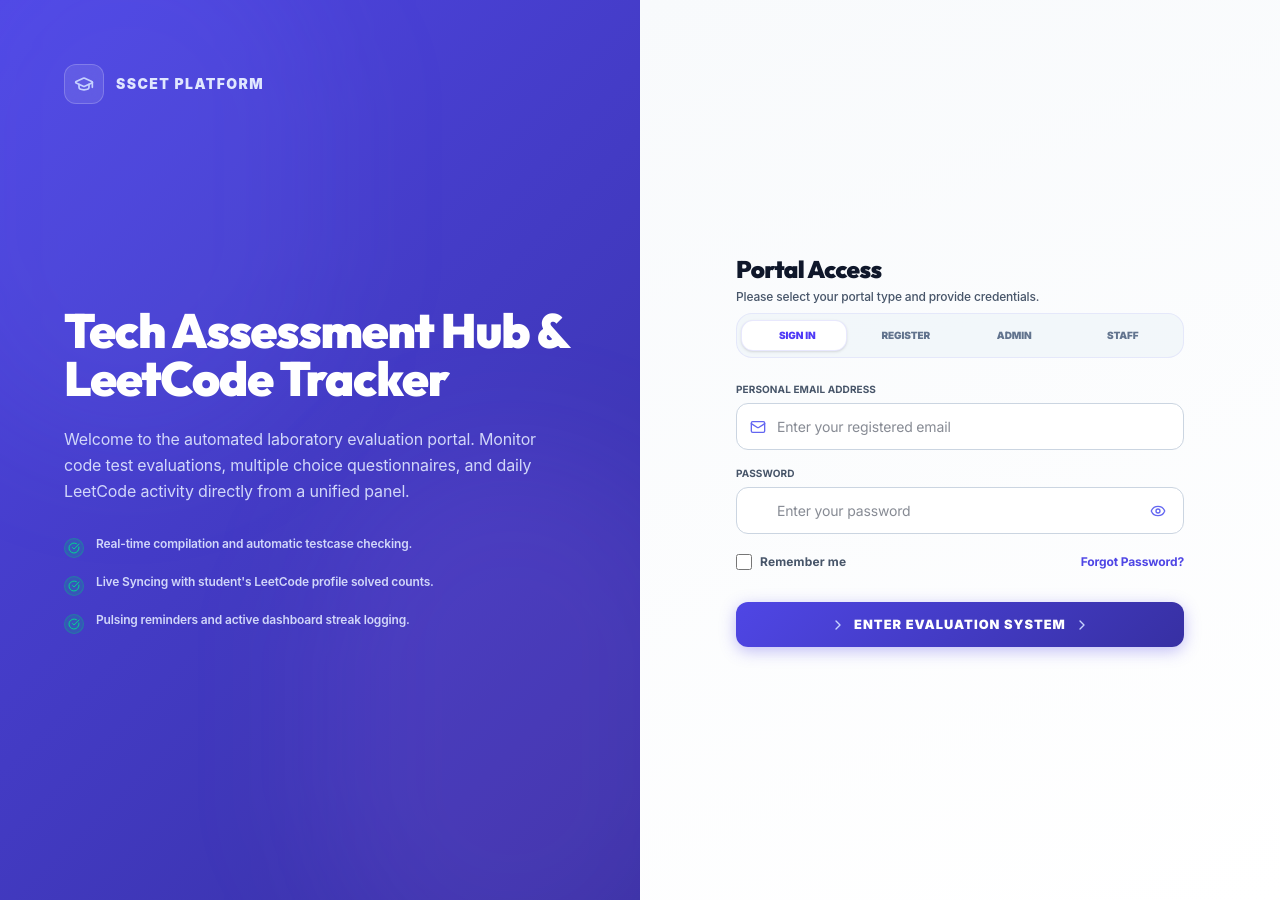
LoginPage — Tab Navigation and Rendering › switches to Register tab when clicked
Click the button "Register": point(906, 336) [852,320,960,351]
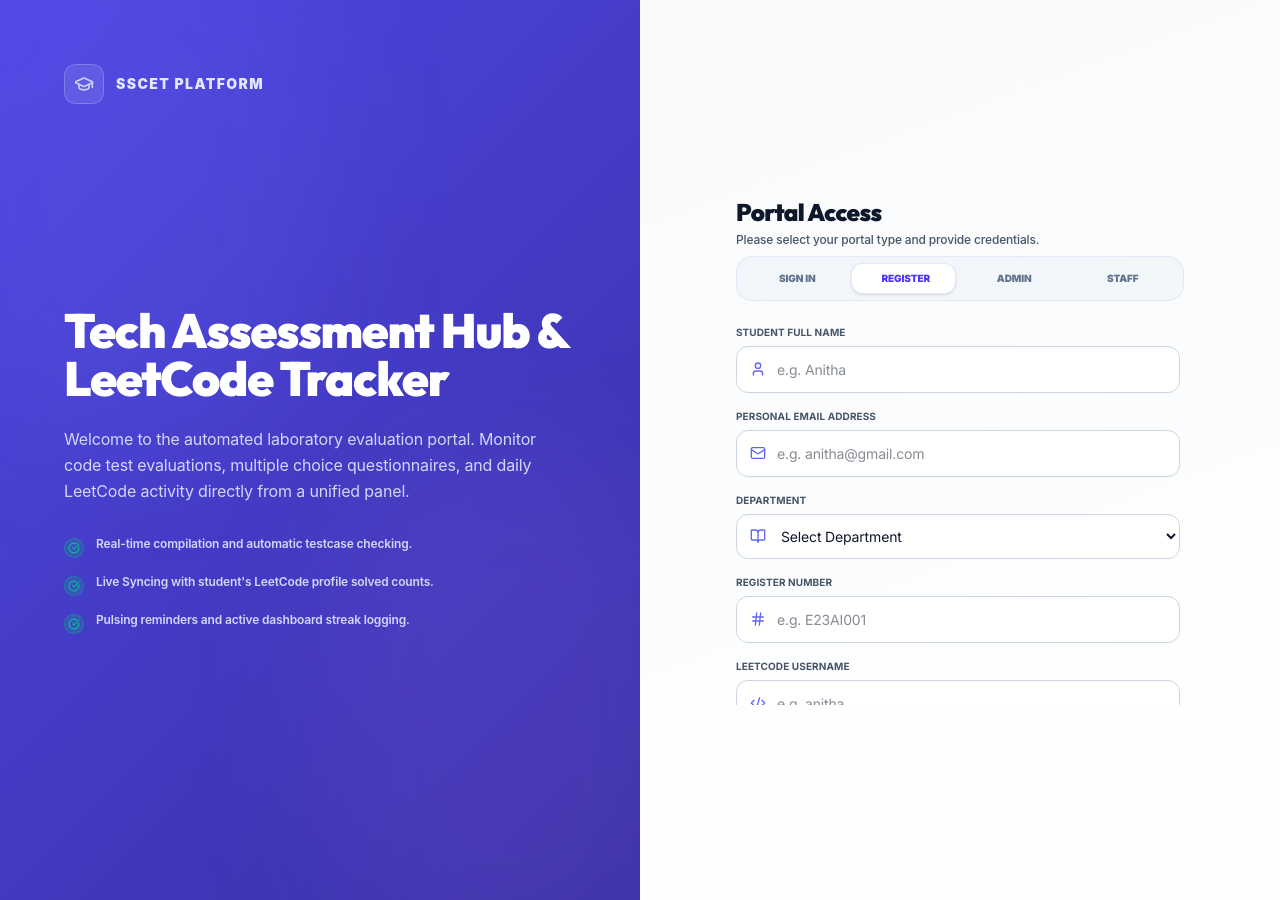
Expected: the field with placeholder "e.g. Anitha" is shown, [736,346,1180,392]
